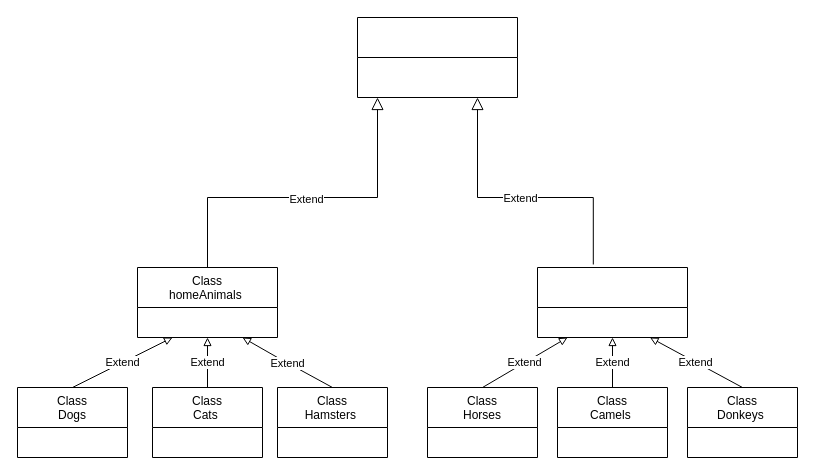
Image size: 815x475. Some labels were removed from this diagram. The centre of each missing label's shape, as x and y in pixels:
"Class Animals" goes at (x=437, y=57).
"Class packedAnimals" goes at (x=612, y=302).
